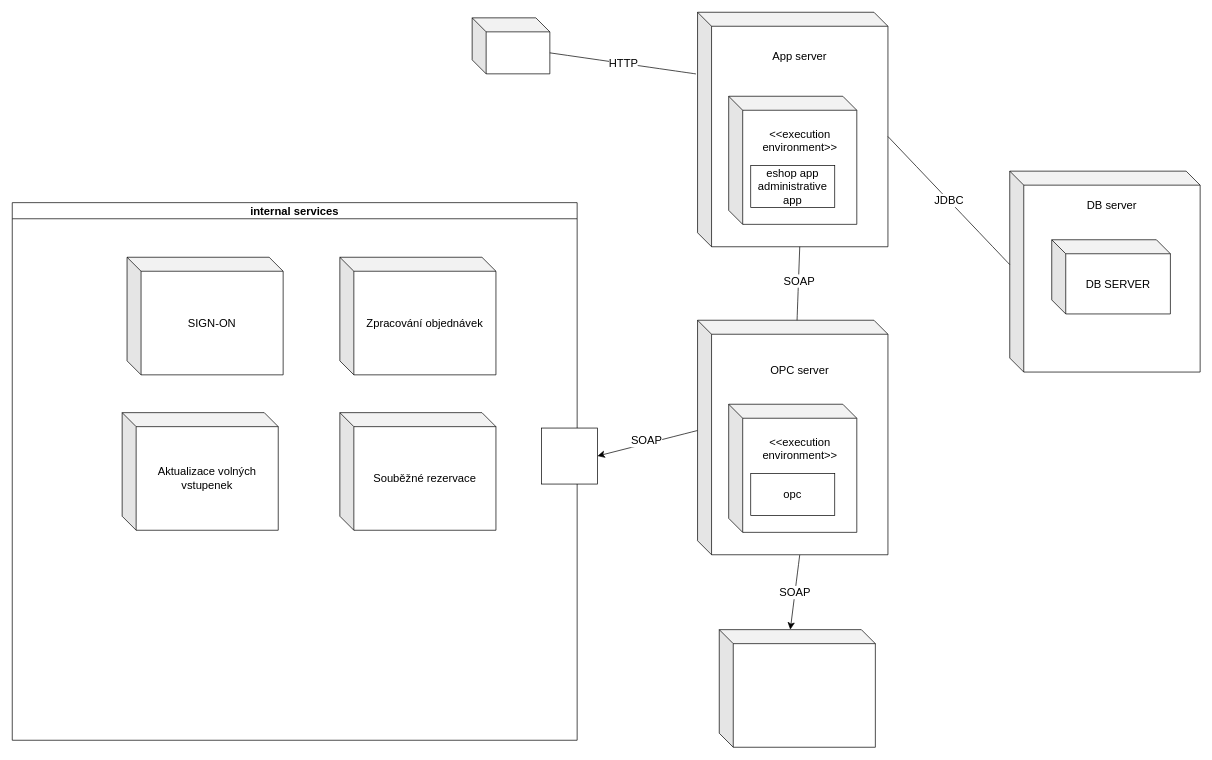
Image size: 1212x760. Some labels were removed from this diagram. Each missing label, with the centre of its shape:
"emailer service" belongs at pixel 797 688.
"Internet User PC" belongs at pixel 510 45.
"PORT" belongs at pixel 569 455.
